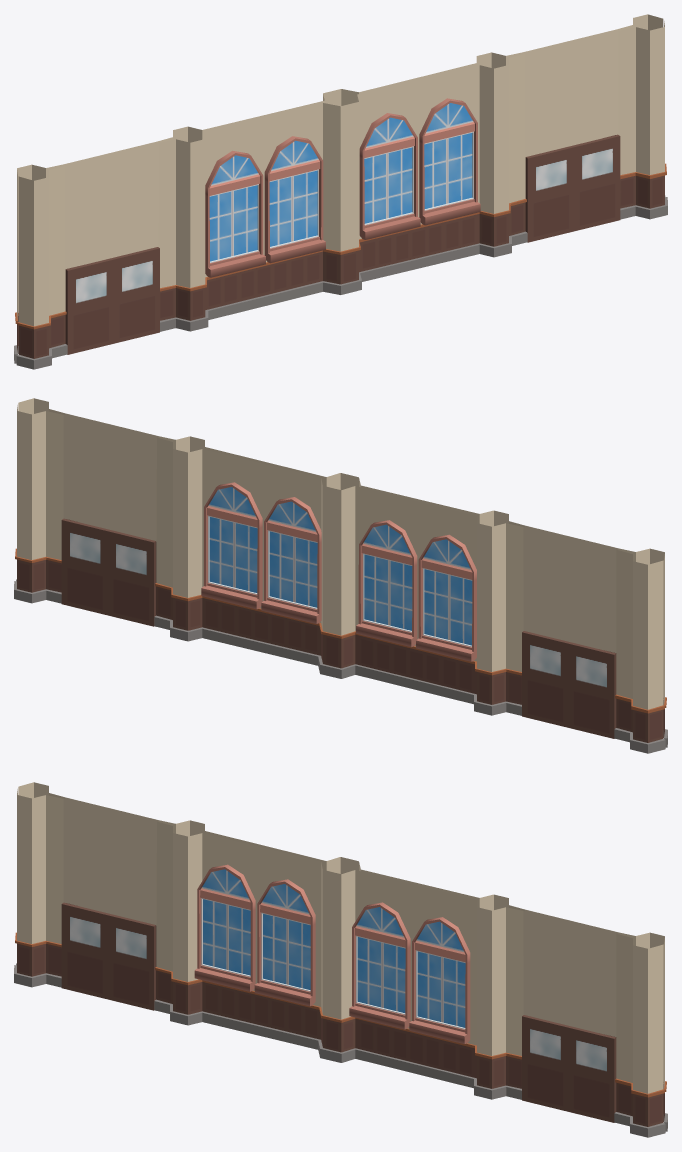
Rendered from Corridor_door.fbx.
3 views of the same model, one above another, from view 1: azimuth 30°, elevation 25°; view 2: azimuth 150°, elevation 25°; view 3: azimuth 330°, elevation 25° (orthographic).
Parts seen in each view (by area): view 1: Middle_wall2, window4, window2, window, window3, door5, door7, door8, door6; view 2: Middle_wall2, window8, window6, window7, window5, door2, door4, door3, door; view 3: Middle_wall2, window2, window4, window3, window, door8, door6, door5, door7.
Boxes of the visible parts, bbox=[...] form: Middle_wall2: bbox=[14, 14, 667, 369]; window4: bbox=[264, 136, 325, 263]; window2: bbox=[419, 98, 480, 225]; window: bbox=[359, 113, 420, 239]; window3: bbox=[205, 150, 265, 277]; door5: bbox=[65, 258, 113, 354]; door7: bbox=[525, 146, 573, 242]; door8: bbox=[572, 134, 620, 231]; door6: bbox=[112, 247, 159, 343]; Middle_wall2: bbox=[14, 398, 667, 753]; window8: bbox=[356, 520, 417, 647]; window6: bbox=[201, 482, 262, 609]; window7: bbox=[416, 534, 476, 661]; window5: bbox=[261, 497, 321, 623]; door2: bbox=[568, 642, 616, 738]; door4: bbox=[107, 530, 155, 626]; door3: bbox=[61, 518, 109, 615]; door: bbox=[522, 631, 569, 727]; Middle_wall2: bbox=[14, 782, 667, 1137]; window2: bbox=[409, 917, 470, 1043]; window4: bbox=[254, 879, 315, 1006]; window3: bbox=[194, 864, 255, 991]; window: bbox=[349, 902, 410, 1029]; door8: bbox=[568, 1026, 616, 1122]; door6: bbox=[107, 914, 155, 1010]; door5: bbox=[61, 902, 109, 999]; door7: bbox=[522, 1015, 569, 1111].
Bounding box in the file's own units: 1814 × 500 × 100.
3 materials, 3 textured.
